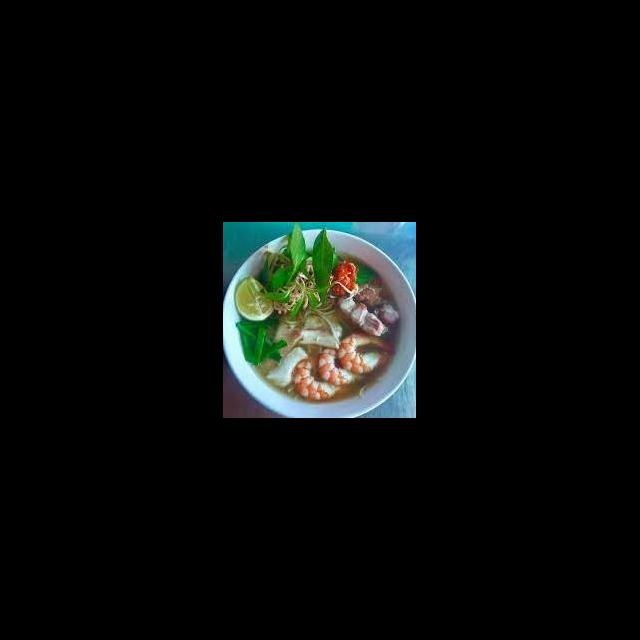ca: (258, 309, 308, 373), (288, 309, 346, 352), (264, 344, 310, 390)
rau ram: (258, 248, 312, 304), (309, 224, 336, 305)
thit heo quay: (336, 293, 388, 338), (352, 281, 402, 327)
tom: (289, 353, 352, 402), (336, 330, 398, 376), (316, 343, 374, 388)
